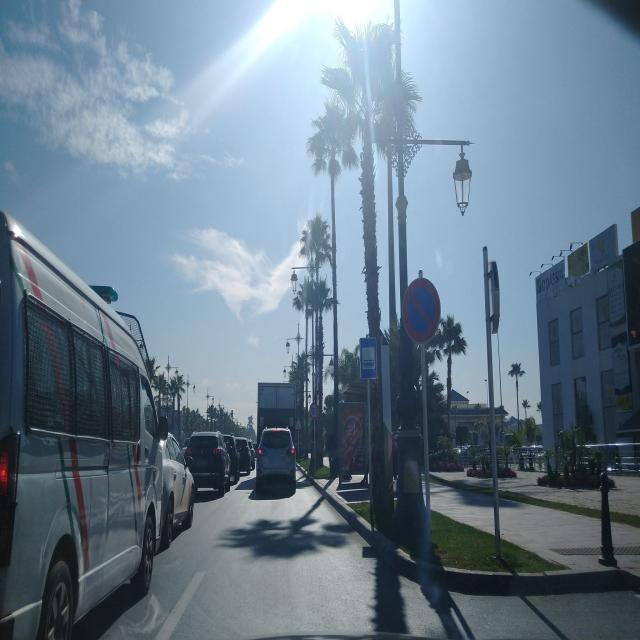forb_stopping: (401, 275, 441, 346)
